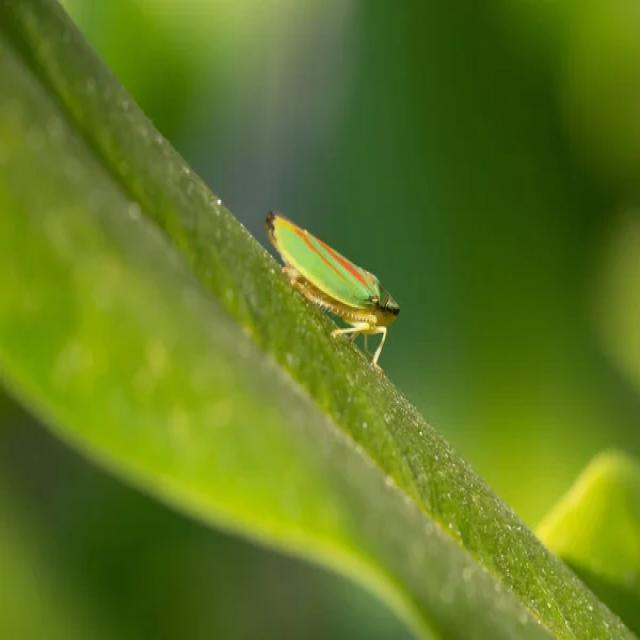Yechan: (248, 186, 398, 362)
